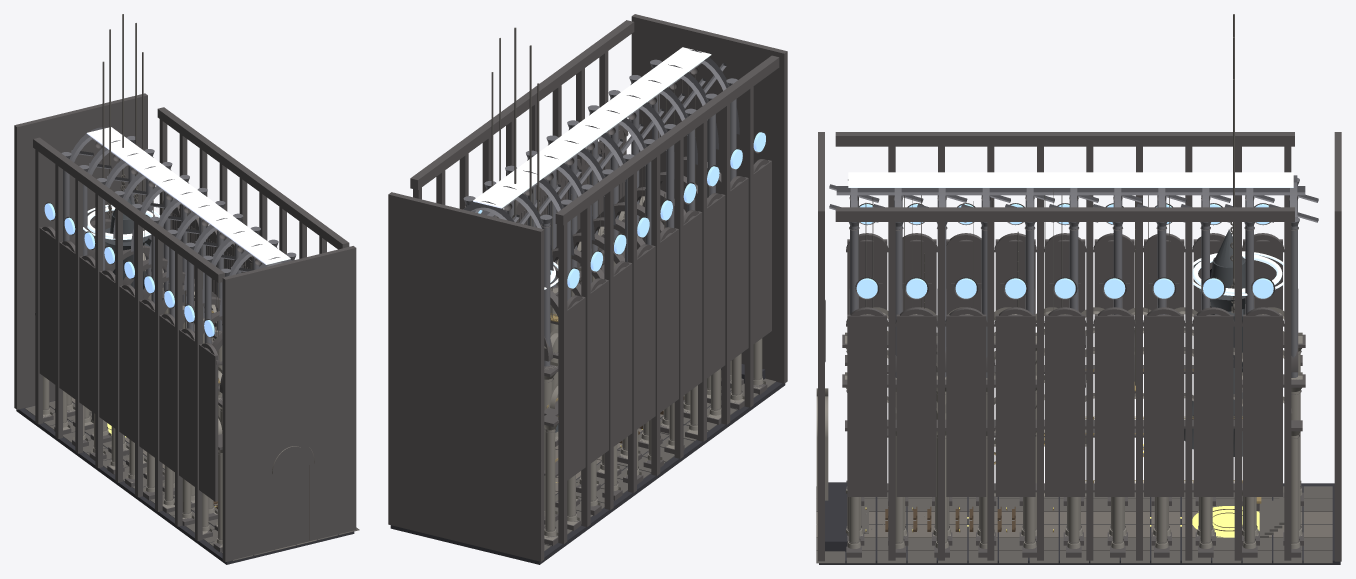
The model's file is cathedral_opus48.glb.
3 renders of one model, left to right at view 1: azimuth 30°, elevation 25°; view 2: azimuth 150°, elevation 25°; view 3: azimuth 270°, elevation 25°, orthographic. The views are drawn at different scales.
Parts seen in each view (by area): view 1: n_stoneDark, n_stoneUp, n_skylight, n_stone, n_chain, n_floorDark, n_floorSlab, n_glassCool, n_colossus, n_haloRing; view 2: n_stoneDark, n_stoneUp, n_stone, n_skylight, n_chain, n_floorDark, n_glassCool, n_floorSlab; view 3: n_stoneDark, n_stoneUp, n_floorSlab, n_stone, n_skylight, n_floorAisle, n_floorDark, n_glassCool, n_chain, n_colossus, n_inlayGold, n_haloRing (+1 smaller).
Boxes of the visible parts, x1,y1,x2,y2 form: n_stoneDark: (14,93,356,562); n_stoneUp: (61,127,296,396); n_skylight: (86,127,290,264); n_stone: (43,253,314,547); n_chain: (102,14,259,380); n_floorDark: (16,400,354,564); n_floorSlab: (25,401,359,560); n_glassCool: (44,203,214,336); n_colossus: (105,190,151,288); n_haloRing: (83,204,159,239); n_stoneDark: (388,14,787,561); n_stoneUp: (463,49,739,366); n_stone: (544,196,765,540); n_skylight: (473,47,711,208); n_chain: (491,27,709,361); n_floorDark: (390,364,785,564); n_glassCool: (478,132,765,288); n_floorSlab: (544,370,775,550); n_stoneDark: (818,132,1341,561); n_stoneUp: (829,175,1318,377); n_floorSlab: (816,486,1332,563); n_stone: (816,307,1302,548); n_skylight: (848,172,1293,187); n_floorAisle: (816,512,1332,537); n_floorDark: (819,482,1340,564); n_glassCool: (856,204,1273,298); n_chain: (858,14,1234,436); n_colossus: (1184,229,1254,456); n_inlayGold: (967,506,1259,537); n_haloRing: (1192,251,1284,295).
Size of the model in its own units: 163 by 482 by 448.
